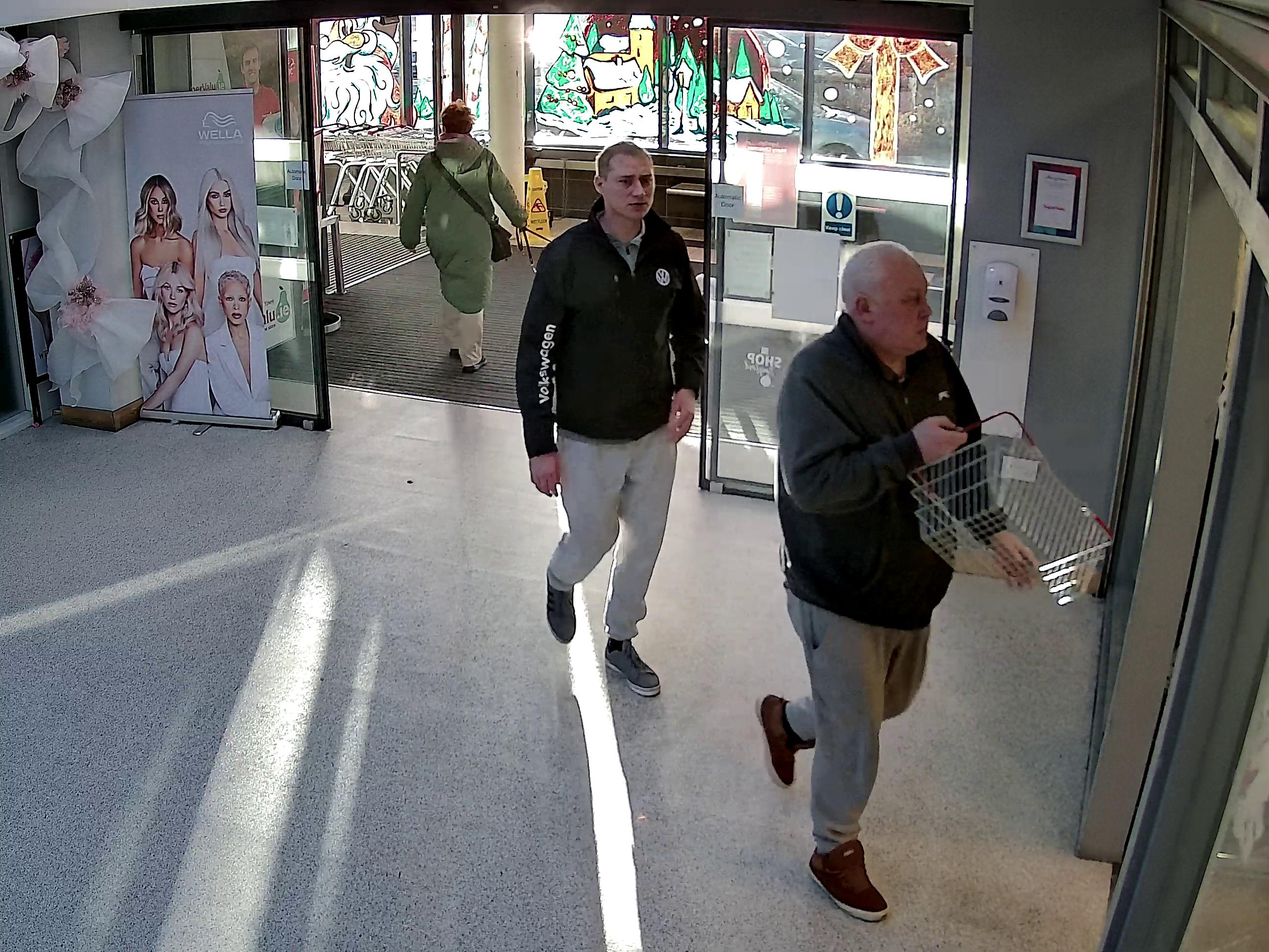empty-basket: (907, 412, 1118, 609)
person: (754, 240, 1034, 925)
person-with-empty-basket-trolly: (756, 238, 1118, 923)
